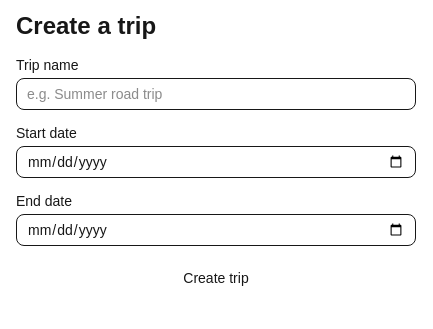
Test: CreateTripPageView — form validation: dates required › shows start date required error when submitted without a start date
Step 1. Type "My Trip" into the field labelled "Trip name" → (216, 94), box [16,78,416,110]
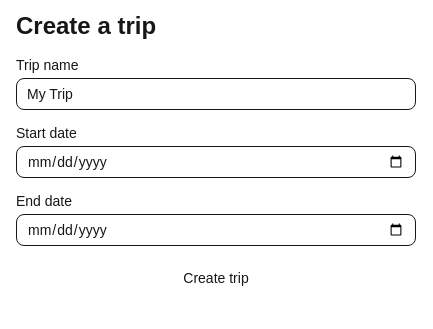
Step 2. Click the button "Create trip" → click(216, 278), box [16,262,416,294]
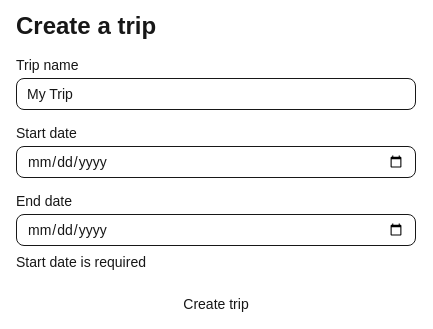
Result: the text "Start date is required" is shown at [16,254,146,270]
